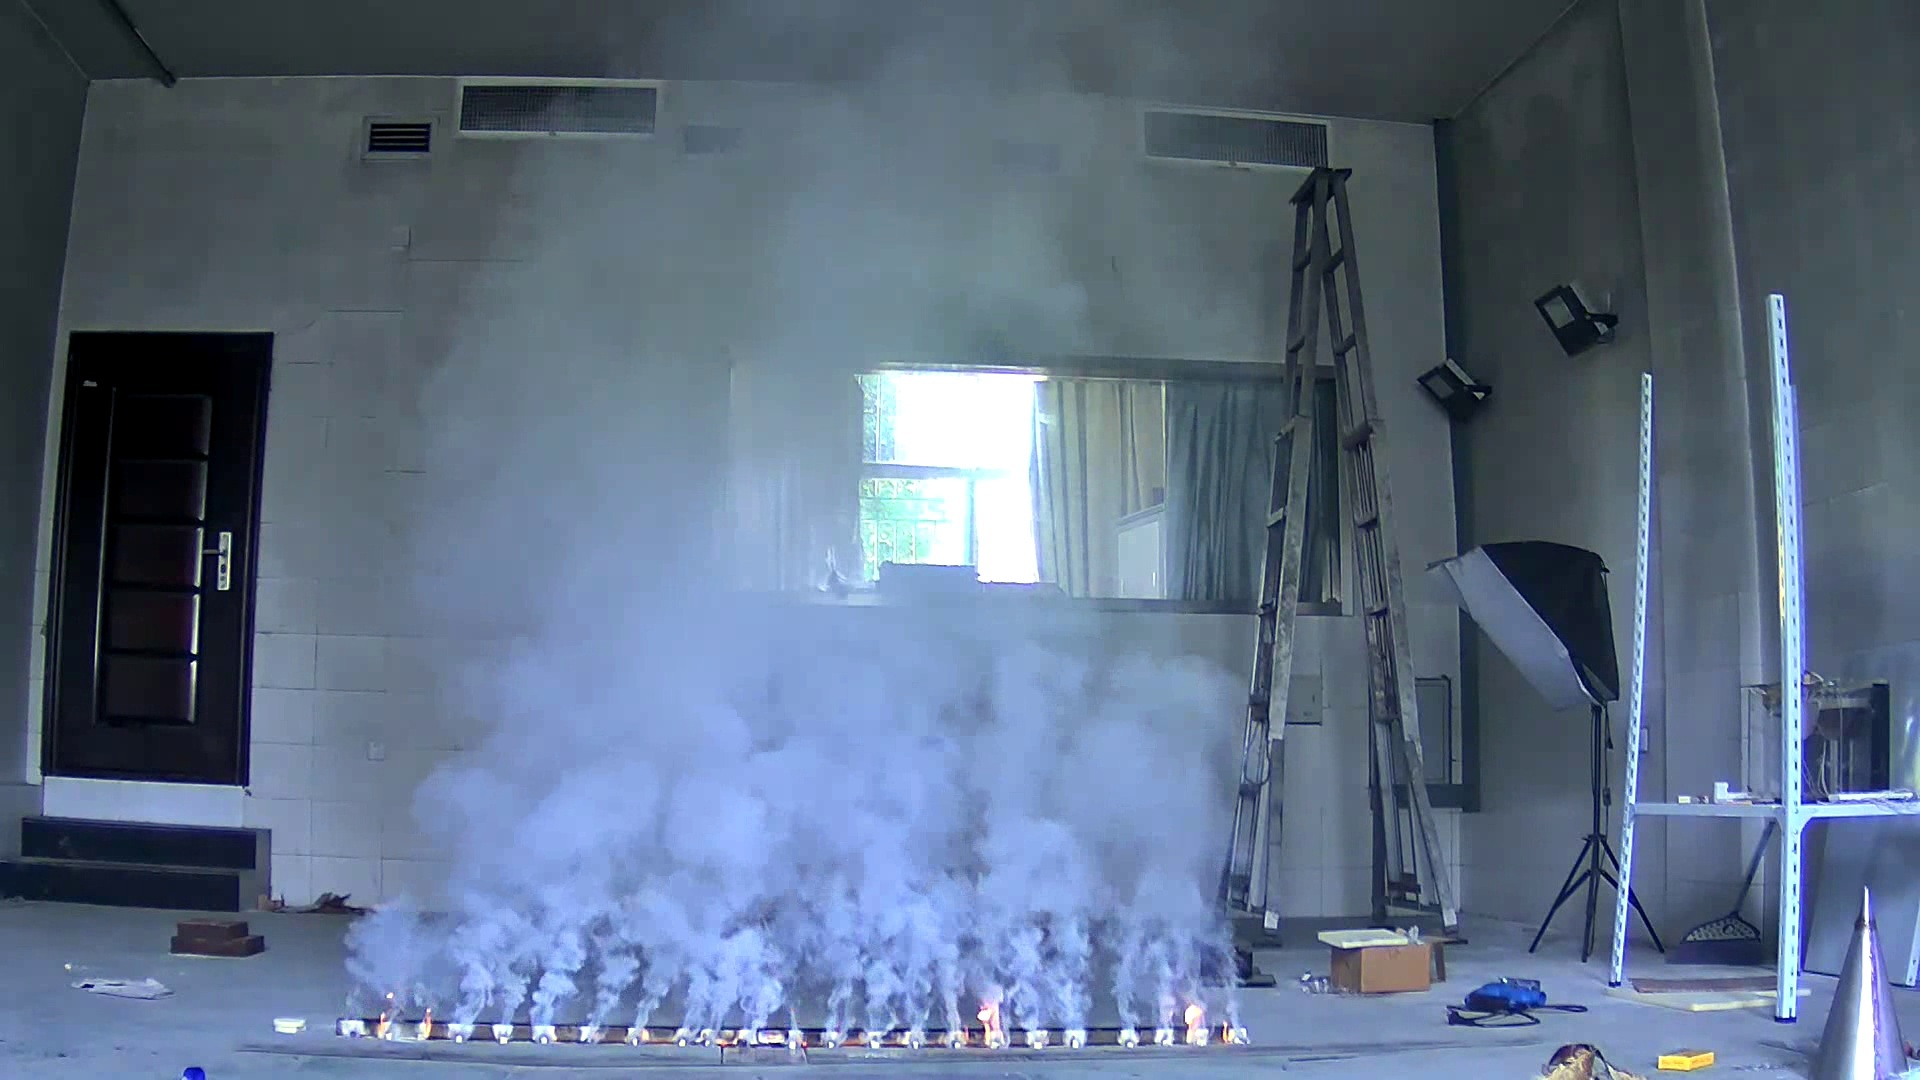smoke: (342, 375, 1273, 1018)
